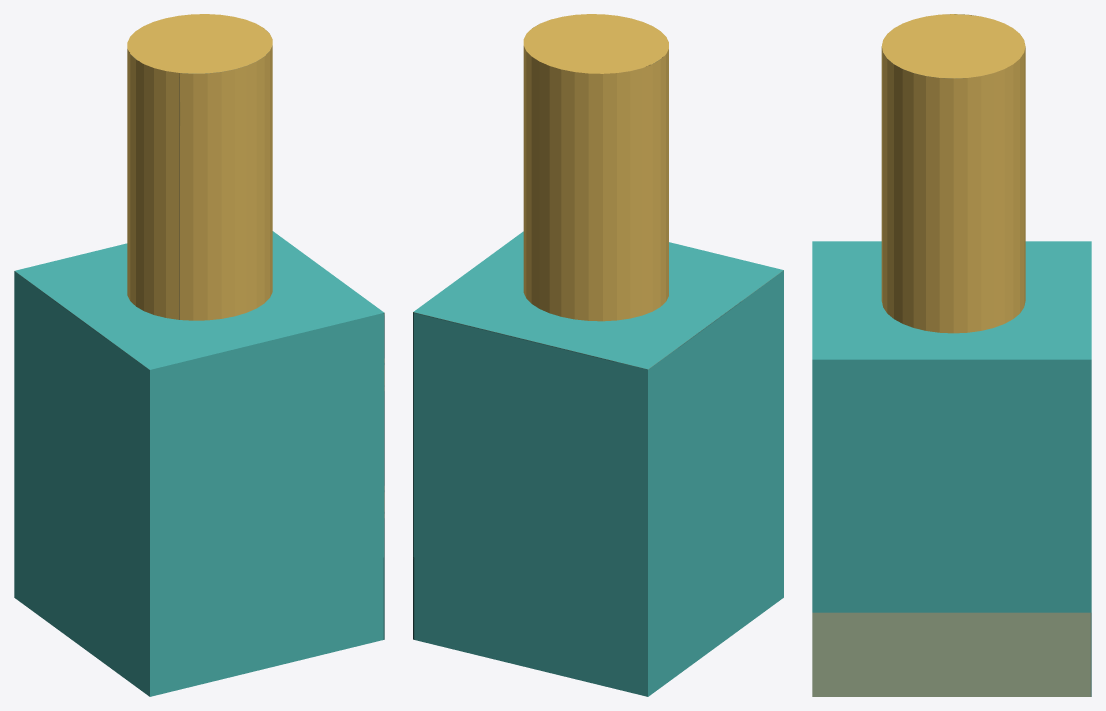
File: nailPolish.fbx
3 renders of one model, left to right at view 1: azimuth 30°, elevation 25°; view 2: azimuth 150°, elevation 25°; view 3: azimuth 270°, elevation 25°, orthographic. The views are drawn at different scales.
Visible parts, largest first — view 1: Cube; view 2: Cube; view 3: Cube.
Boxes of the visible parts, box(x1,y1,x2,y2) form: Cube: box(14, 14, 384, 696); Cube: box(413, 14, 783, 696); Cube: box(812, 14, 1091, 696).
Bounding box in the file's own units: 200 × 468 × 200.
